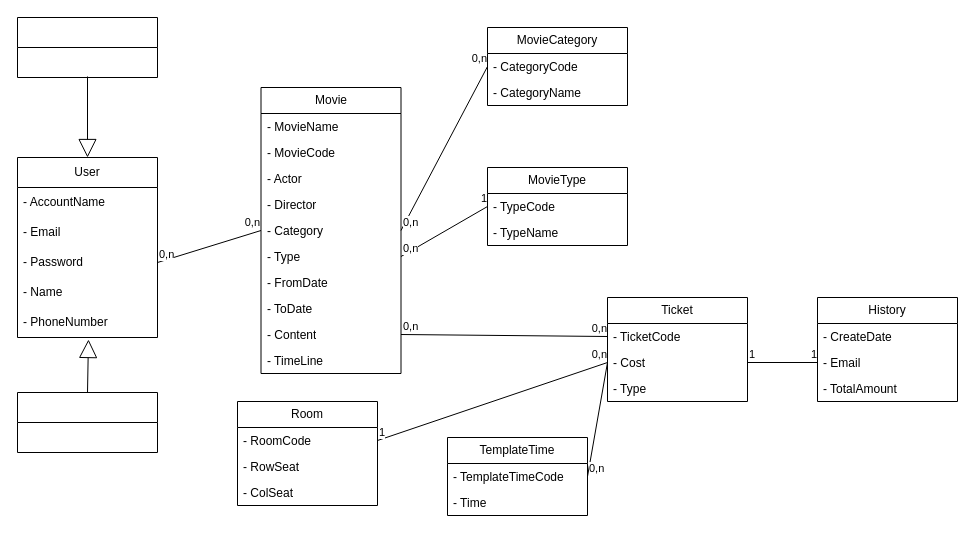
This 975x536 diagram has some shape labels left out. The centre of each missing label's shape, as x and y in pixels:
Admin: the point at 87,47
Client: the point at 87,422
